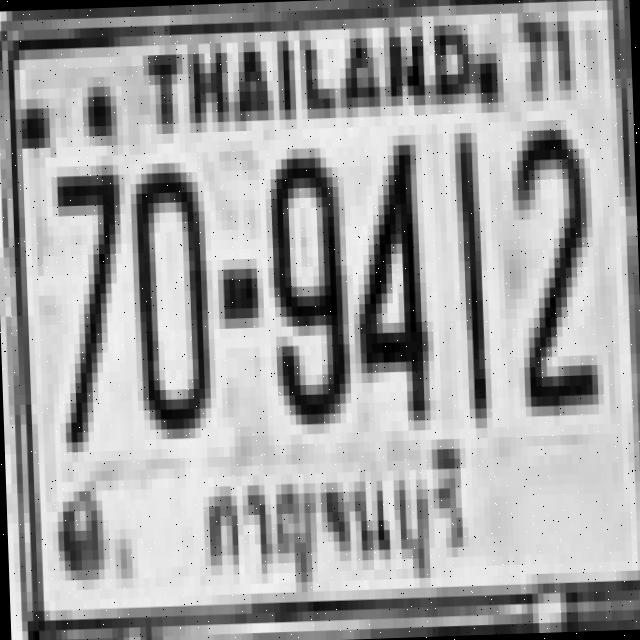0: (126, 152, 209, 430)
1: (452, 132, 484, 418)
2: (510, 119, 592, 407)
4: (348, 134, 424, 412)
7: (51, 165, 122, 442)
9: (264, 142, 346, 410)
Kanchanaburi: (189, 426, 472, 596)
